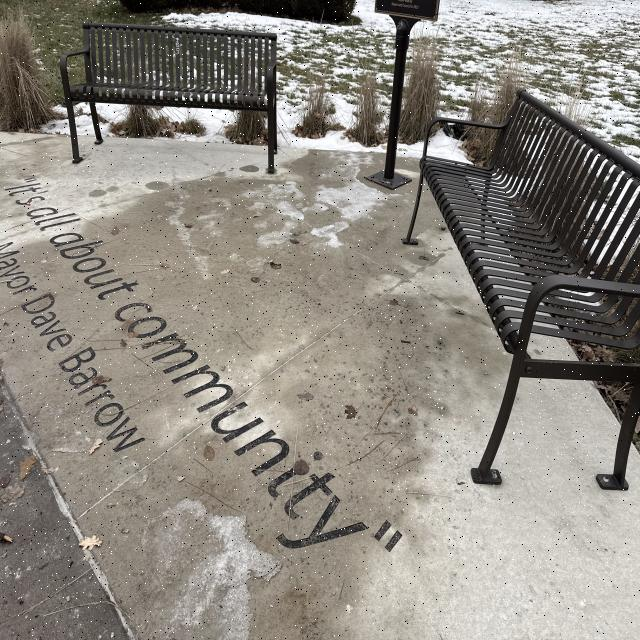Bench: (415, 85, 640, 490), (62, 28, 289, 165)
